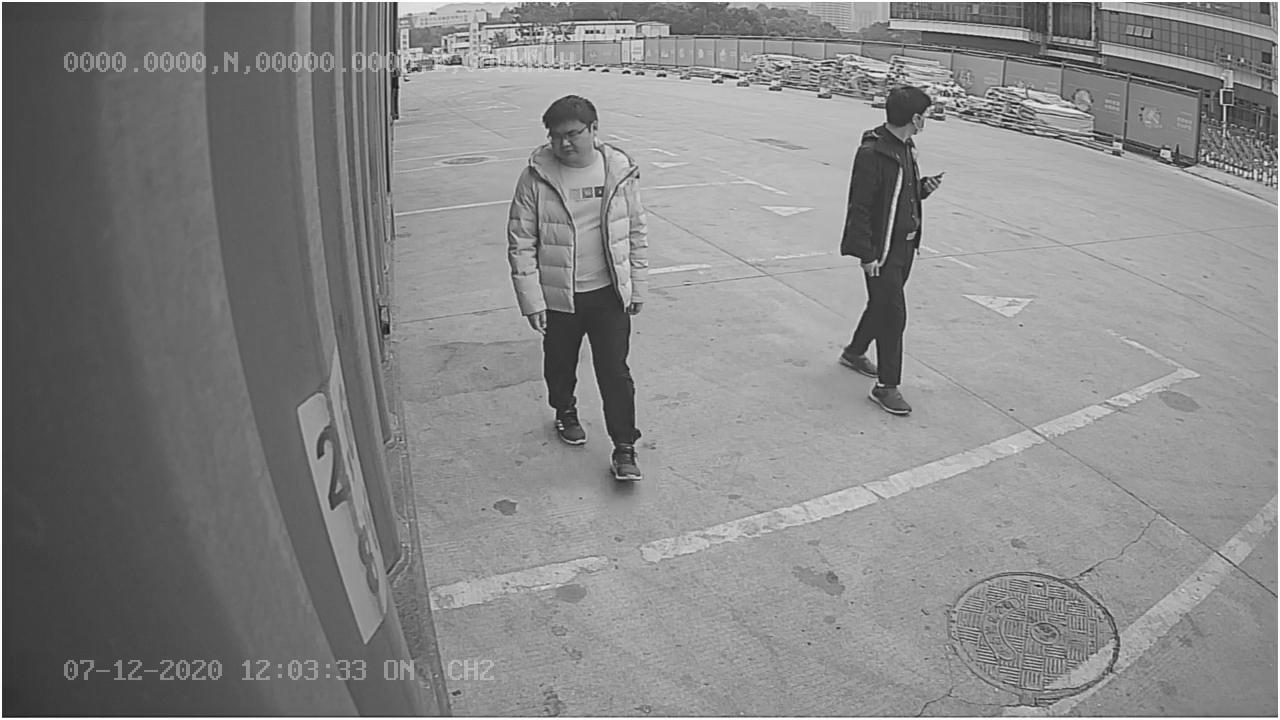person: (504, 92, 653, 483), (833, 84, 942, 417)
